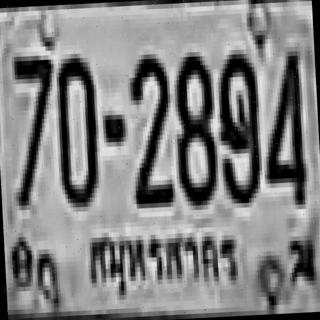N00: (53, 49, 97, 204)
N02: (126, 49, 173, 204)
N04: (258, 47, 305, 202)
N07: (10, 51, 57, 206)
N08: (170, 47, 217, 202)
N09: (214, 47, 261, 202)
P58: (84, 216, 242, 303)
